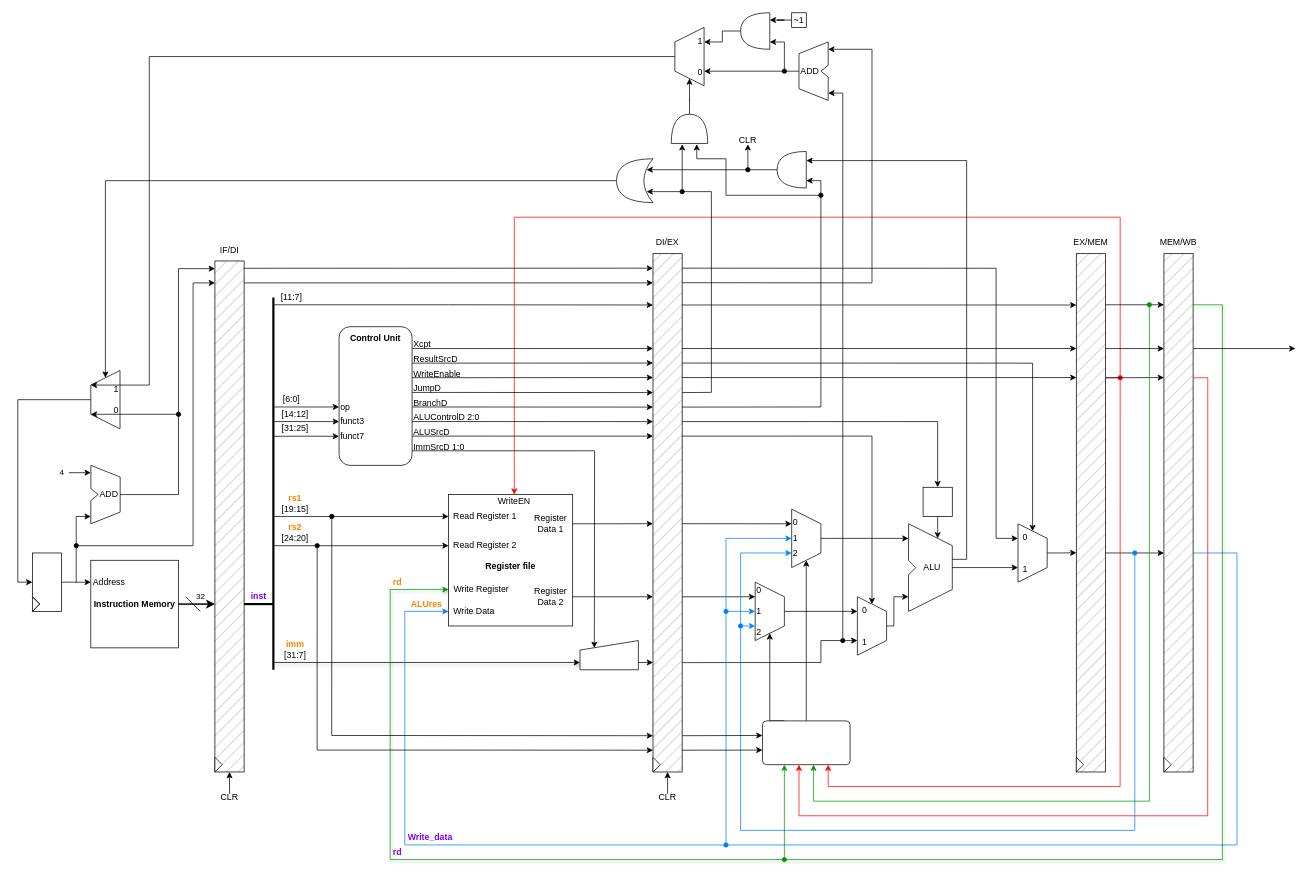
Some shapes in this 1315 by 883 pixel diagram are drawn without their labels. The centre of each missing label's shape, as x and y in pixels:
"ALU control" goes at point 937,501.
"ForwardUnit" goes at point 806,742.
"PC" goes at point 47,581.
"Sign extend" goes at point 608,655.
